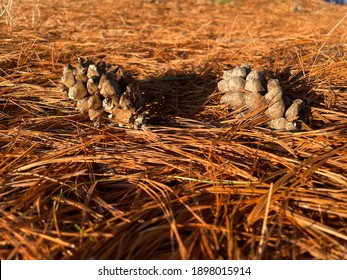Pc: (58, 53, 151, 132), (214, 67, 310, 132)
